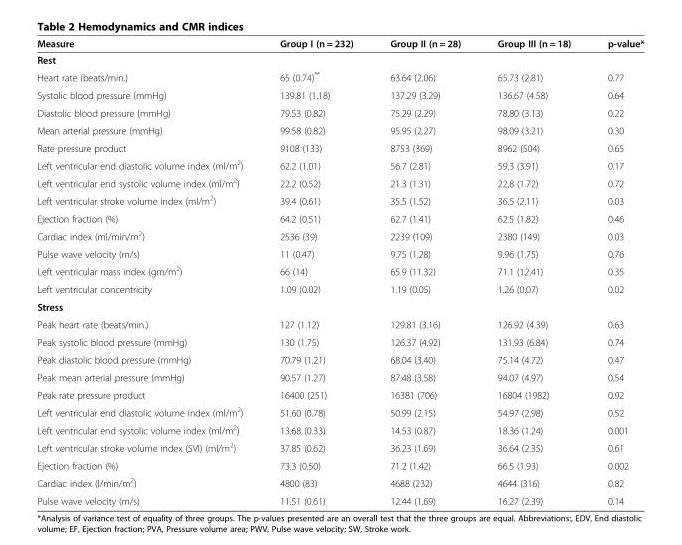table: (36, 37, 643, 506)
table column: (36, 37, 260, 506), (260, 37, 371, 506), (478, 37, 588, 506), (371, 37, 478, 506), (588, 37, 643, 506)
table column header: (36, 37, 643, 51)
table projected row header: (36, 297, 643, 315), (36, 51, 643, 67)
table row: (36, 67, 643, 86), (36, 261, 643, 280), (36, 103, 643, 121), (36, 121, 643, 139), (36, 155, 643, 173), (36, 173, 643, 191), (36, 191, 643, 209), (36, 226, 643, 244), (36, 297, 643, 315), (36, 315, 643, 333), (36, 350, 643, 368), (36, 402, 643, 420), (36, 420, 643, 438), (36, 438, 643, 456), (36, 473, 643, 491), (36, 86, 643, 103), (36, 209, 643, 226), (36, 244, 643, 261), (36, 280, 643, 297), (36, 333, 643, 350), (36, 368, 643, 385), (36, 385, 643, 402), (36, 456, 643, 473), (36, 51, 643, 67), (36, 139, 643, 155), (36, 491, 643, 506), (36, 37, 643, 51)
